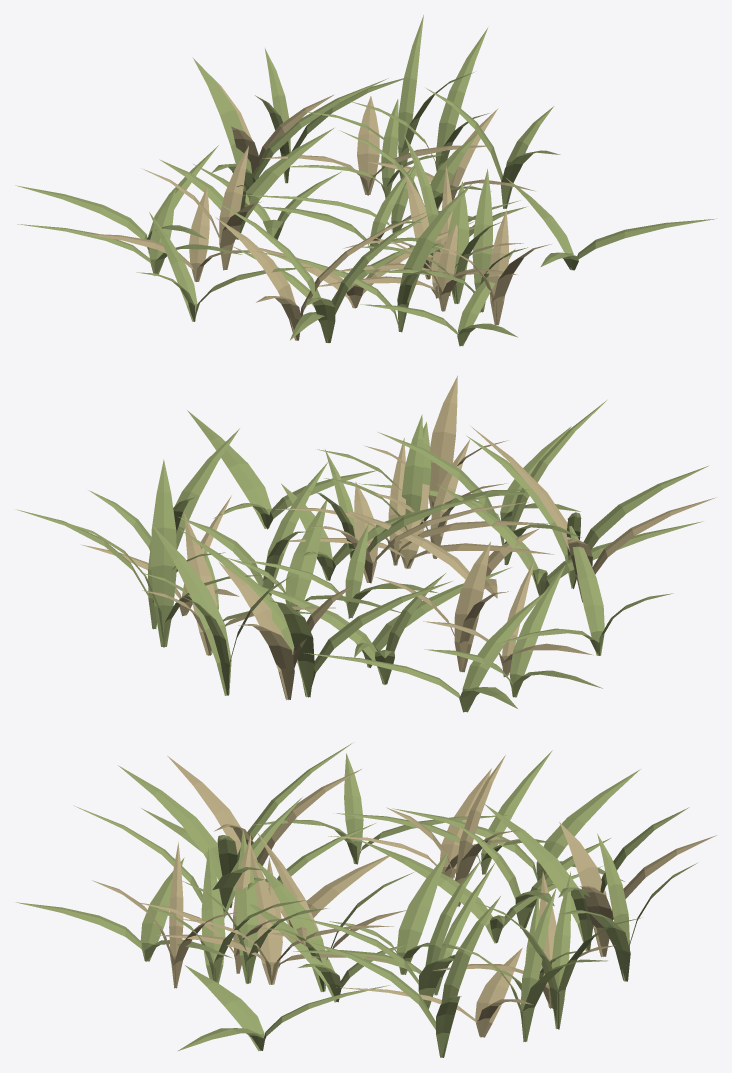
The model's file is CW_RiverGrass.fbx.
3 renders of one model, top to bottom at view 1: azimuth 30°, elevation 25°; view 2: azimuth 150°, elevation 25°; view 3: azimuth 270°, elevation 25°, orthographic. The views are drawn at different scales.
Visible parts, largest first — view 1: CW_RiverGrass; view 2: CW_RiverGrass; view 3: CW_RiverGrass.
Part boxes in pixels (x1,y1,x2,y2): CW_RiverGrass: (15, 15, 716, 346); CW_RiverGrass: (16, 375, 715, 712); CW_RiverGrass: (16, 742, 716, 1057).
Bounding box in the file's own units: 2.36 × 0.5485 × 2.36.
